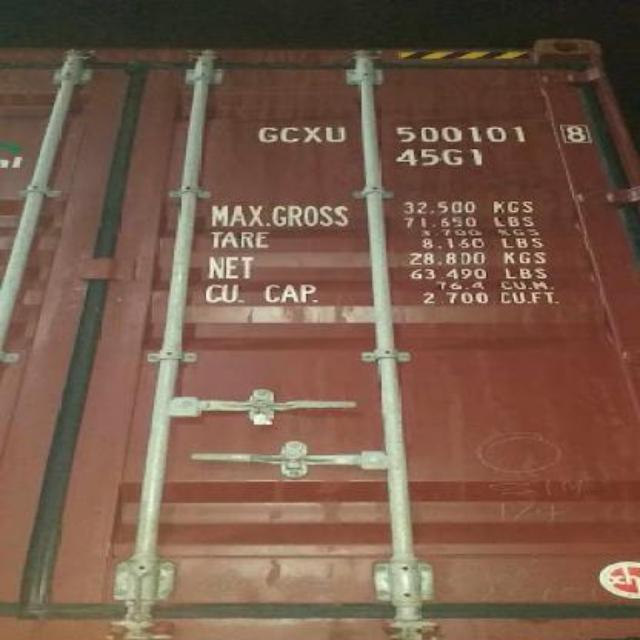0: (440, 120, 466, 148), (462, 118, 486, 146), (416, 122, 442, 146), (488, 119, 506, 148)
1: (510, 118, 540, 148)
5: (388, 122, 416, 144)
8: (560, 120, 592, 144)
C: (278, 119, 300, 148)
G: (250, 121, 280, 145)
U: (322, 120, 352, 150)
X: (302, 120, 322, 150)
